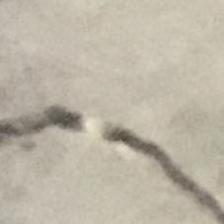Crack: (0, 98, 224, 217)
